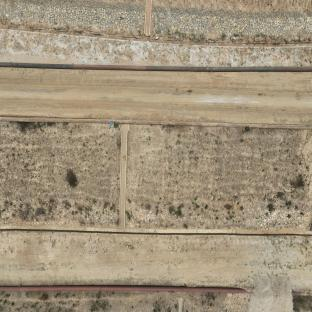rock_toe: (0, 0, 144, 33), (153, 12, 312, 38), (126, 205, 312, 226), (0, 199, 119, 226)
slope_drain: (119, 124, 130, 228), (144, 0, 152, 37)
toe_drain: (0, 22, 312, 48), (0, 225, 312, 236)
